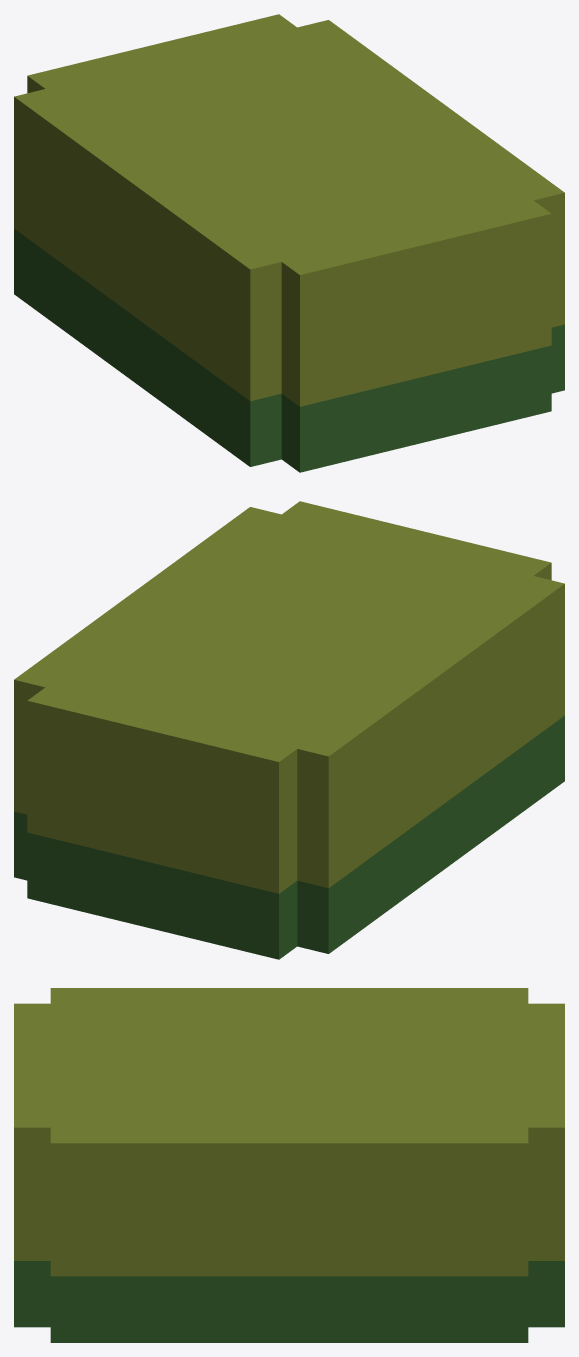
The model's file is Gybka.obj.
3 views of the same model, one above another, from view 1: azimuth 30°, elevation 25°; view 2: azimuth 150°, elevation 25°; view 3: azimuth 270°, elevation 25° (orthographic).
Size of the model in its own units: 1 by 0.6 by 1.5.
Materials: 1 (1 with a texture image).
